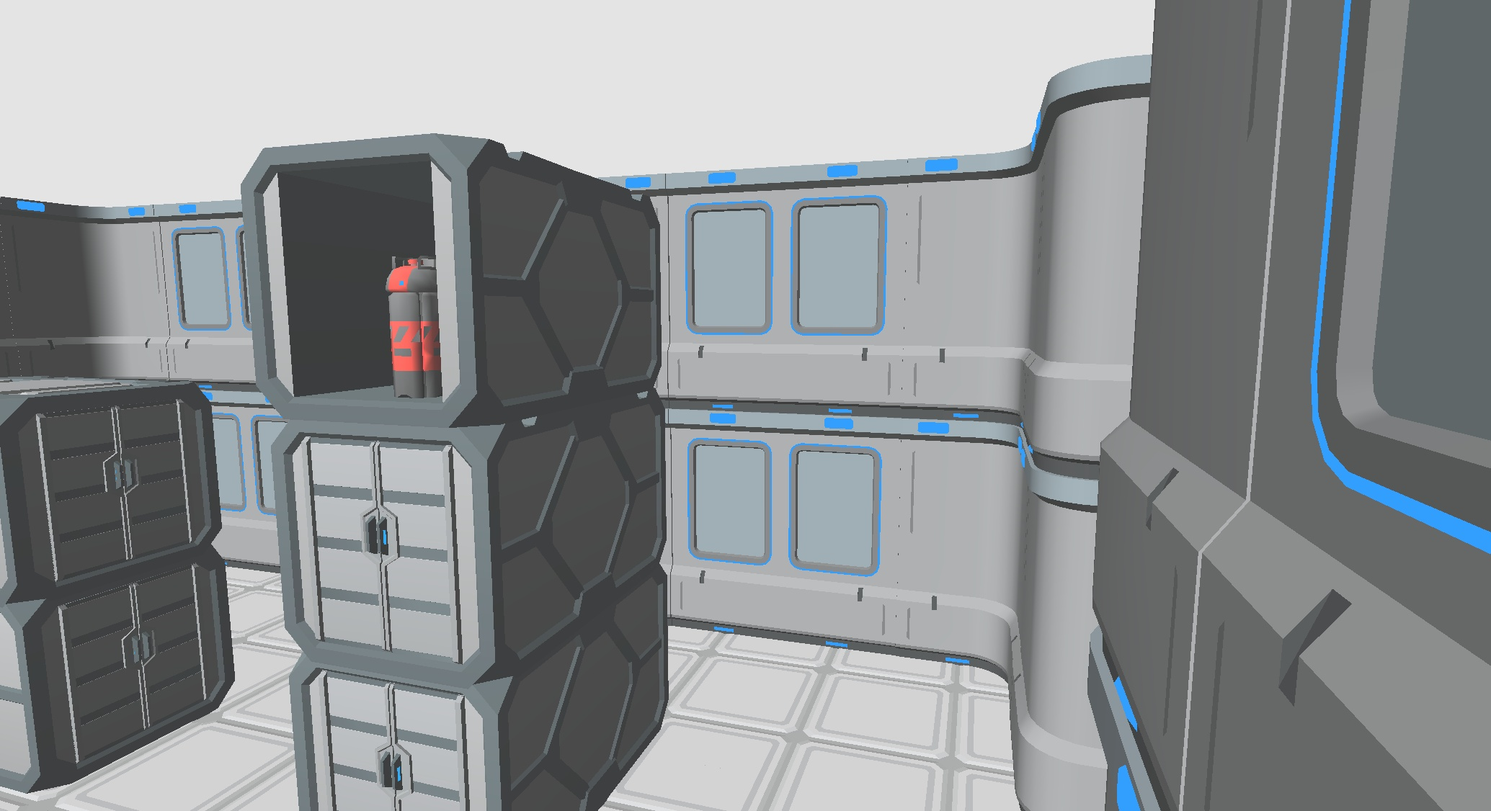red_barrel: (386, 258, 442, 397)
